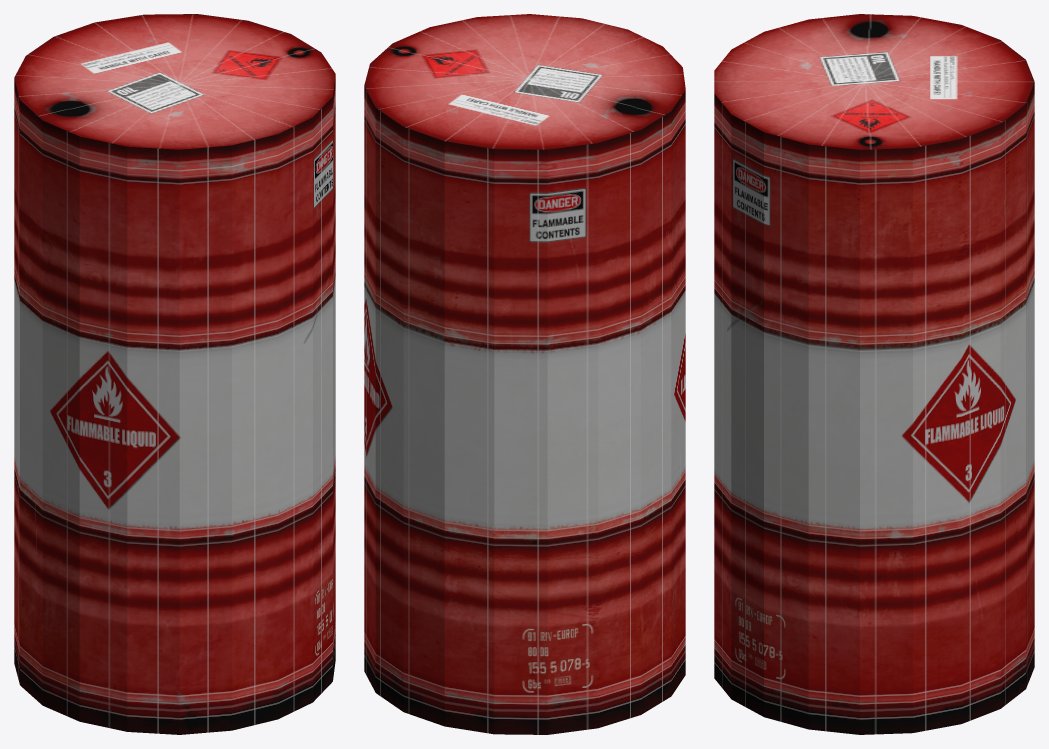
File: red barrel.fbx
3 views of the same model, side by side, from view 1: azimuth 30°, elevation 25°; view 2: azimuth 150°, elevation 25°; view 3: azimuth 270°, elevation 25° (orthographic).
Visible parts, largest first — view 1: Cylinder; view 2: Cylinder; view 3: Cylinder.
Part boxes in pixels (box(x1,y1,x2,y2)): Cylinder: box(14, 14, 335, 734); Cylinder: box(364, 14, 685, 734); Cylinder: box(714, 14, 1034, 734).
Bounding box in the file's own units: 99.66 × 200 × 99.32.
Materials: 1 (1 with a texture image).
